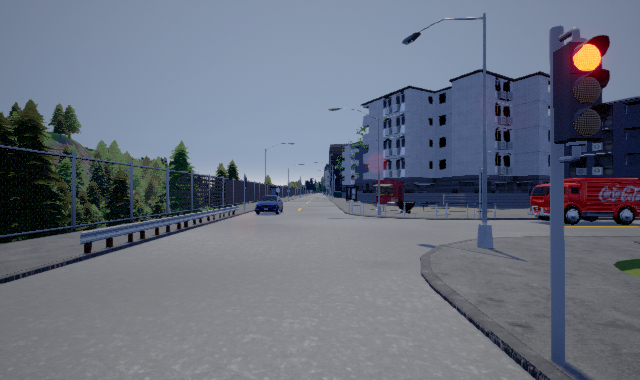traffic_light: (553, 35, 610, 139)
vehicle: (529, 178, 640, 226), (255, 195, 283, 215)
